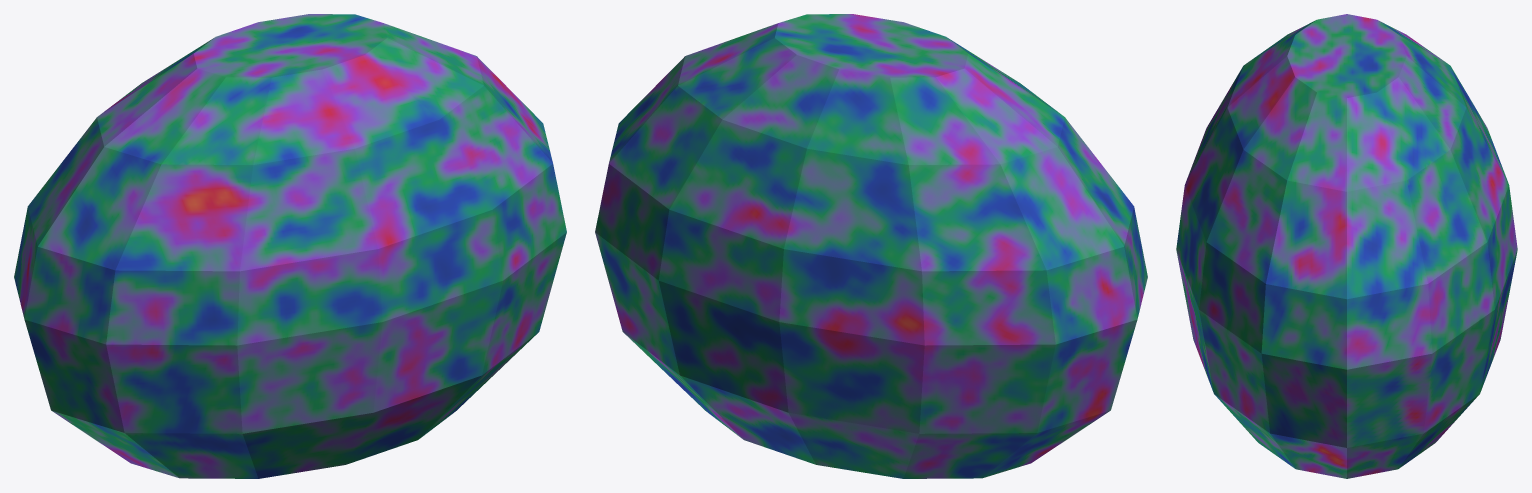
File: SM_Opal_Normal.fbx
3 views of the same model, side by side, from view 1: azimuth 30°, elevation 25°; view 2: azimuth 150°, elevation 25°; view 3: azimuth 270°, elevation 25° (orthographic). The views are drawn at different scales.
Parts seen in each view (by area): view 1: SM_Opal_Normal; view 2: SM_Opal_Normal; view 3: SM_Opal_Normal.
Boxes of the visible parts, x1,y1,x2,y2 form: SM_Opal_Normal: (14, 14, 566, 478); SM_Opal_Normal: (595, 14, 1147, 478); SM_Opal_Normal: (1176, 14, 1517, 478).
Size of the model in its own units: 20 by 12 by 15.
